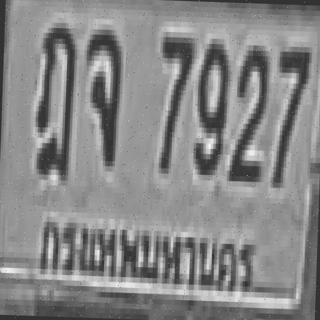A08: (80, 23, 120, 161)
A14: (34, 17, 76, 175)
N02: (227, 39, 268, 177)
N07: (270, 40, 310, 184), (156, 32, 192, 169)
N09: (192, 38, 228, 170)
P04: (30, 196, 261, 303)
